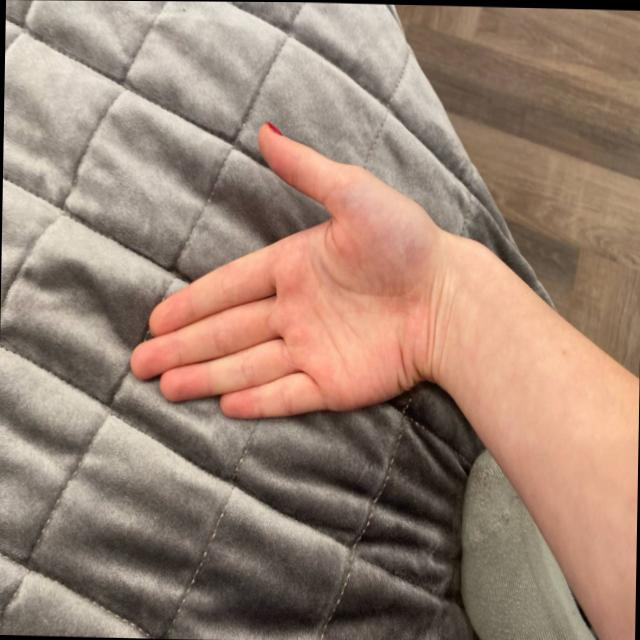v: (142, 116, 412, 428)
